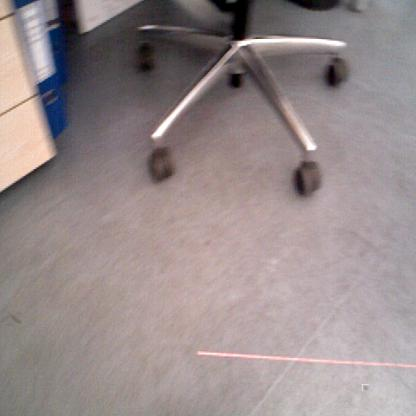mark: (8, 313, 21, 326), (0, 313, 10, 325), (362, 384, 369, 391)
